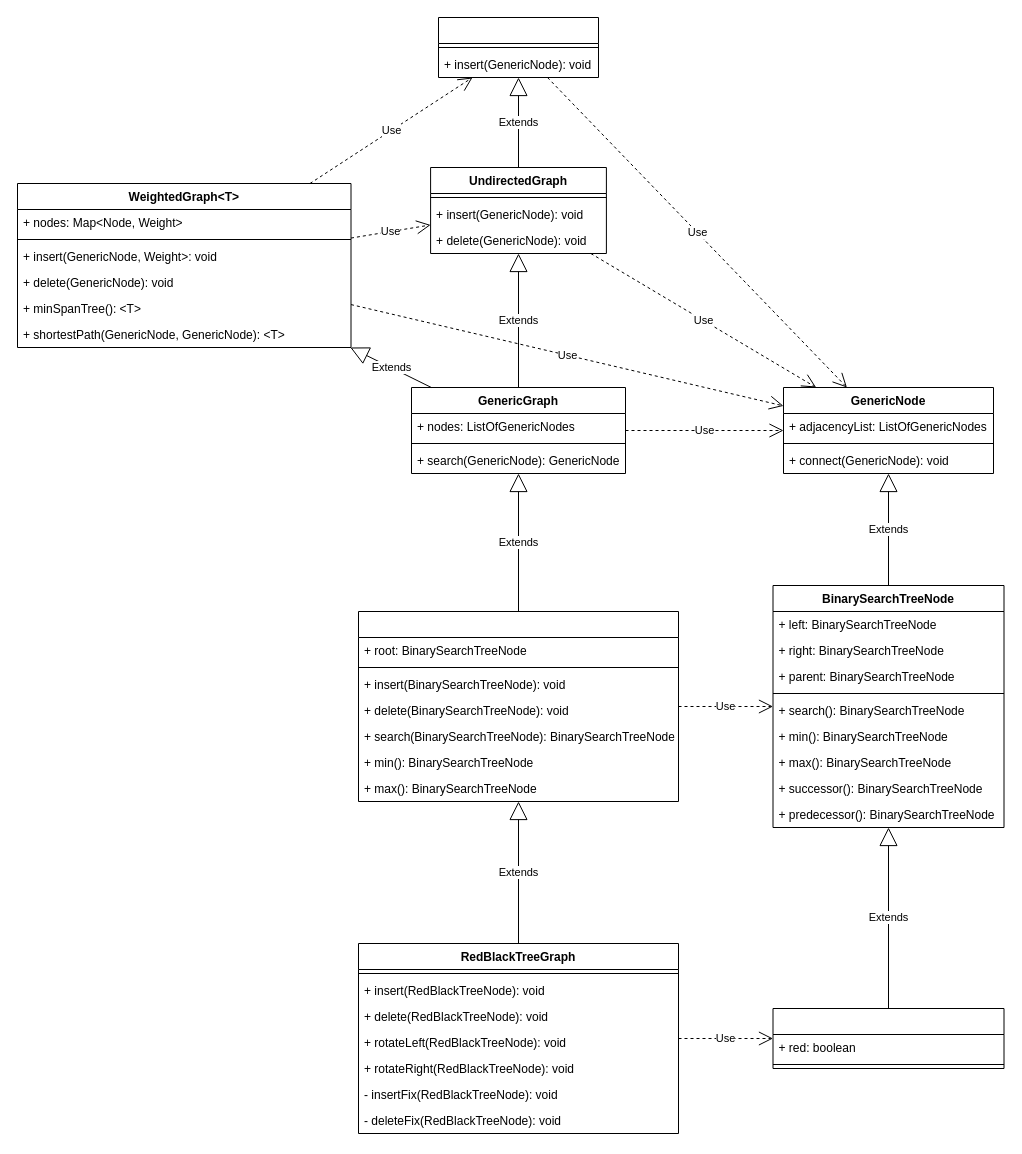
This 1022x1154 diagram has some shape labels left out. The box of each missing label's shape, as (x1, y1, x2, y2) in pixels:
BinarSearchTreeGraph: (358, 610, 678, 802)
DirectedGraph: (438, 16, 598, 78)
RedBlackTreeNode: (772, 1008, 1004, 1068)
